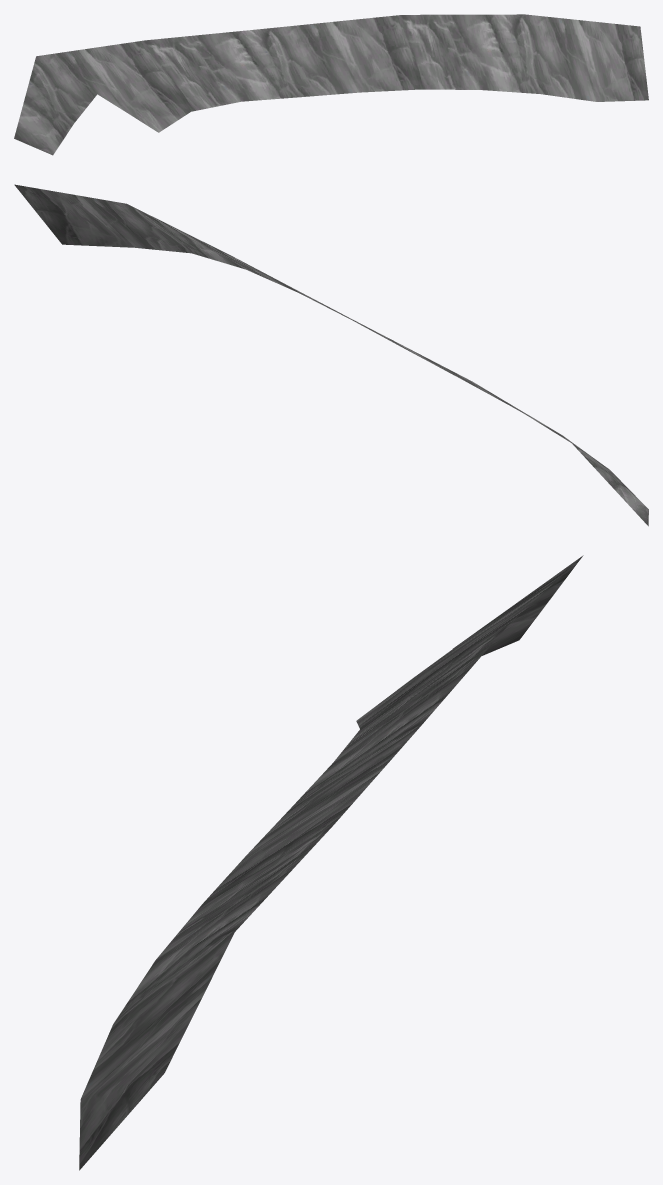
Rendered from SWORDLIGHT20_PS-AREA04_24.fbx.
The picture shows the model from 3 angles, top to bottom: view 1: azimuth 30°, elevation 25°; view 2: azimuth 150°, elevation 25°; view 3: azimuth 270°, elevation 25°; orthographic projection. The views are drawn at different scales.
Parts seen in each view (by area): view 1: SWORDLIGHT20_PS-AREA04_24; view 2: SWORDLIGHT20_PS-AREA04_24; view 3: SWORDLIGHT20_PS-AREA04_24.
Part boxes in pixels (left/top/right/bottom): SWORDLIGHT20_PS-AREA04_24: left=14, top=14, right=648, bottom=155; SWORDLIGHT20_PS-AREA04_24: left=14, top=184, right=648, bottom=526; SWORDLIGHT20_PS-AREA04_24: left=79, top=555, right=583, bottom=1170.
Size of the model in its own units: 123428 by 18334 by 50155.
Materials: 1 (1 with a texture image).
